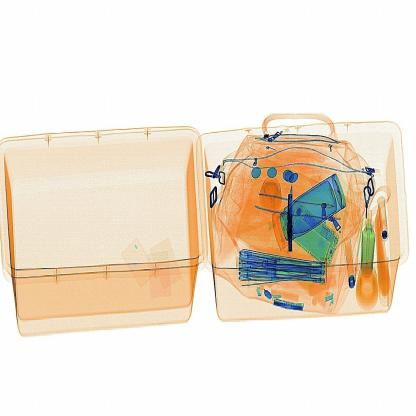pliers: (280, 175, 304, 250)
